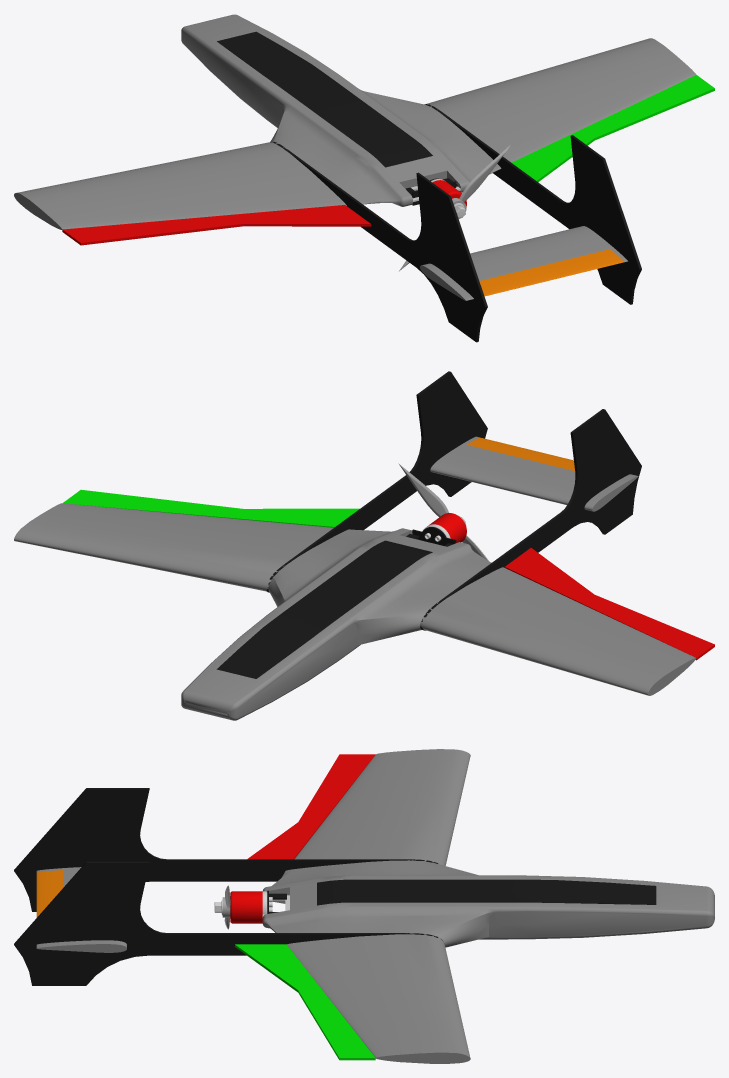
Rendered from model_rudderless_plane.gltf.
3 renders of one model, top to bottom at view 1: azimuth 30°, elevation 25°; view 2: azimuth 150°, elevation 25°; view 3: azimuth 270°, elevation 25°, orthographic.
Bounding box in the file's own units: 10.6 × 2.14 × 10.35.
